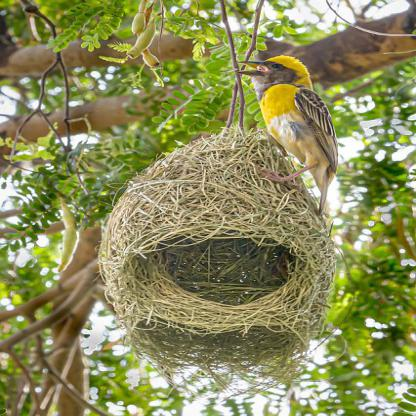Burung: (237, 55, 336, 216)
